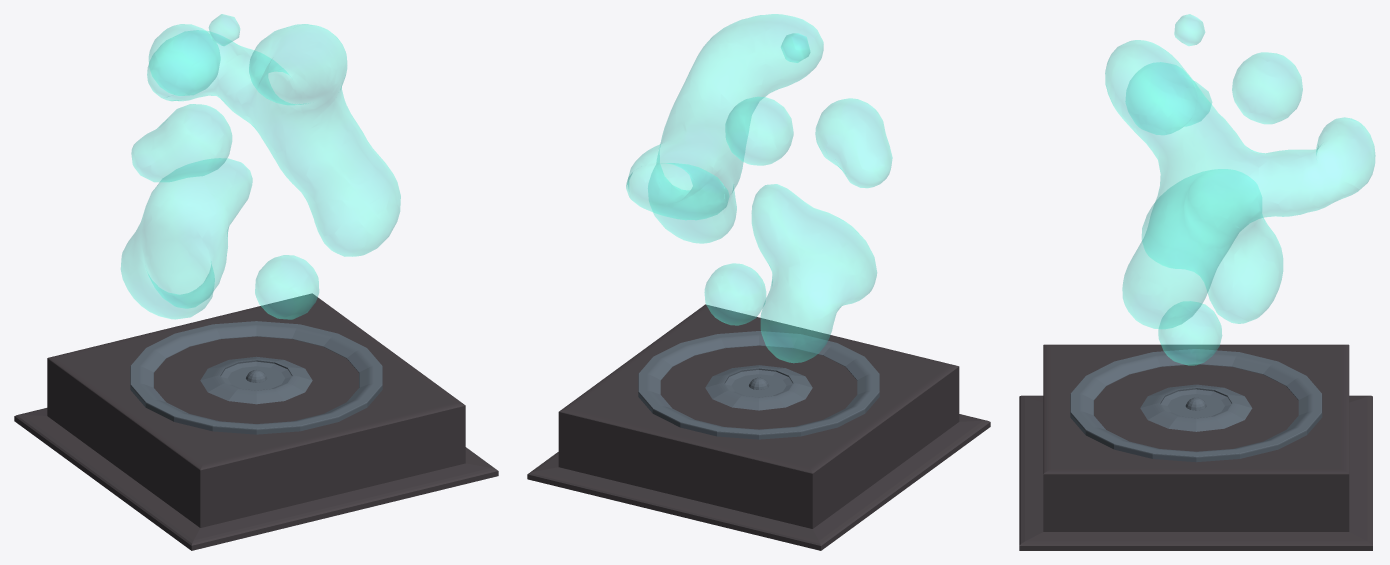
The model's file is flux-specimen-1.gltf.
3 views of the same model, side by side, from view 1: azimuth 30°, elevation 25°; view 2: azimuth 150°, elevation 25°; view 3: azimuth 270°, elevation 25° (orthographic). The views are drawn at different scales.
Parts seen in each view (by area): view 1: Cube.003, Mball.029, Cylinder.001, Cylinder; view 2: Cube.003, Mball.029, Cylinder.001, Cylinder; view 3: Cube.003, Mball.029, Cylinder.001, Cylinder.
Boxes of the visible parts, box(x1,y1,x2,y2) form: Cube.003: box(14, 293, 498, 550); Mball.029: box(121, 14, 400, 319); Cylinder.001: box(130, 321, 382, 434); Cylinder: box(200, 356, 312, 404); Cube.003: box(527, 304, 990, 550); Mball.029: box(626, 14, 892, 362); Cylinder.001: box(638, 331, 879, 439); Cylinder: box(705, 365, 812, 410); Cube.003: box(1019, 344, 1372, 550); Mball.029: box(1105, 14, 1375, 365); Cylinder.001: box(1070, 349, 1322, 462); Cylinder: box(1140, 384, 1252, 431).
Size of the model in its own units: 2.24 by 3.09 by 2.25.
